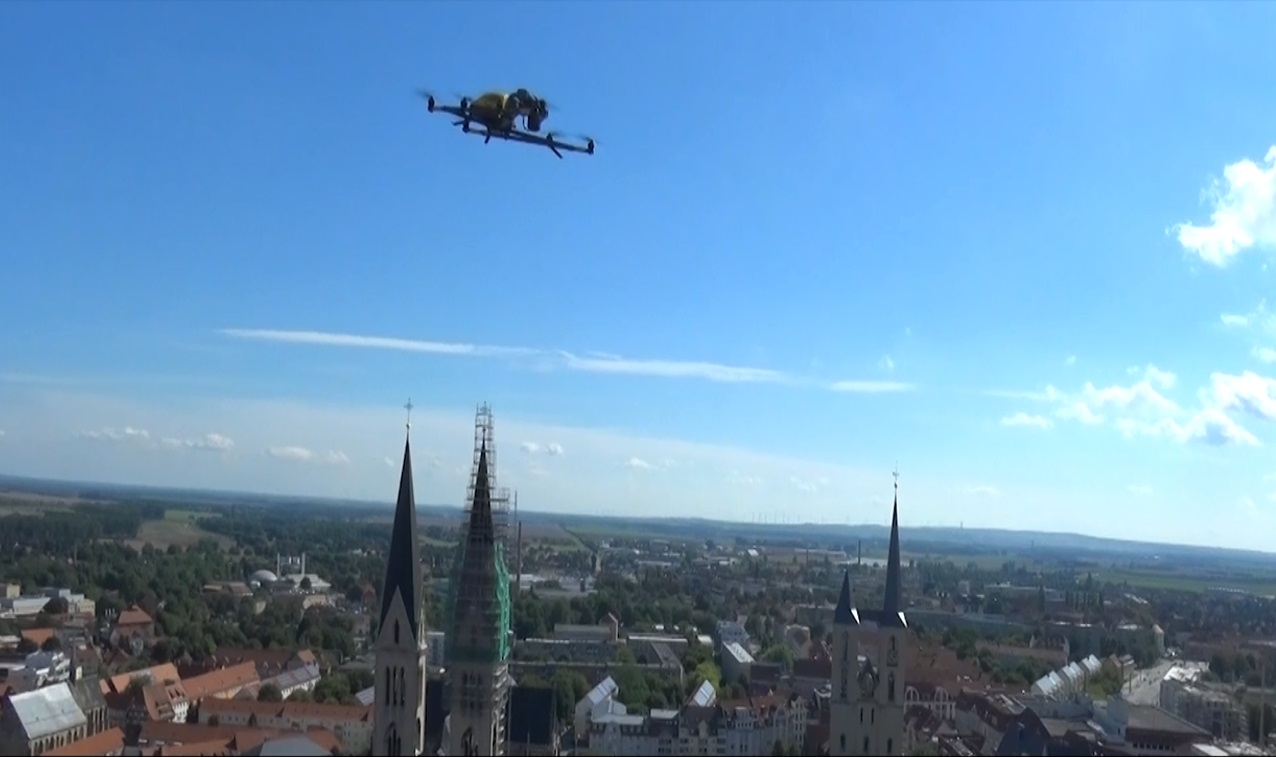drone: (412, 82, 614, 165)
